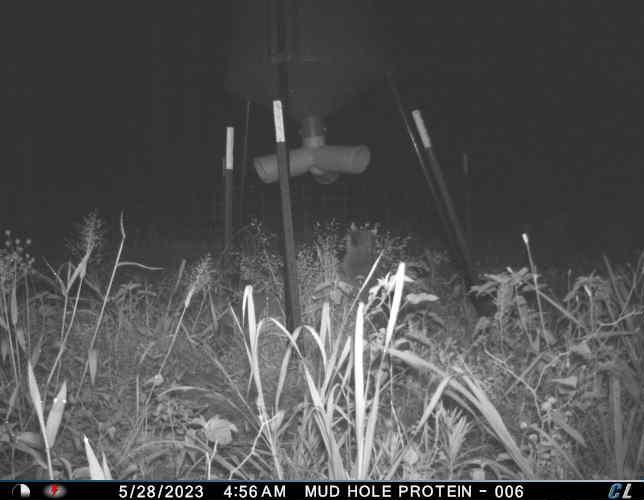Raccoon: (334, 224, 379, 293)
